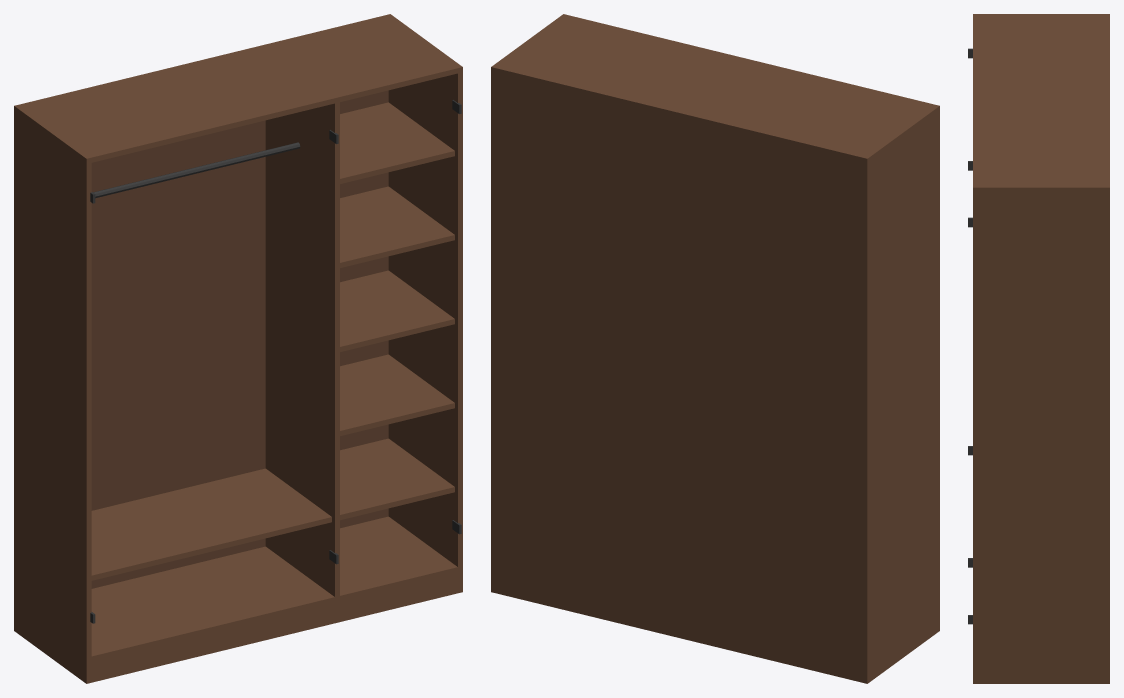
The model's file is Wardrobe2_C3.fbx.
3 views of the same model, side by side, from view 1: azimuth 30°, elevation 25°; view 2: azimuth 150°, elevation 25°; view 3: azimuth 270°, elevation 25° (orthographic). The views are drawn at different scales.
Parts seen in each view (by area): view 1: Wardrobe2_C3; view 2: Wardrobe2_C3; view 3: Wardrobe2_C3.
Boxes of the visible parts, box(x1,y1,x2,y2) form: Wardrobe2_C3: box(14, 14, 462, 683); Wardrobe2_C3: box(491, 14, 939, 683); Wardrobe2_C3: box(968, 14, 1109, 683).
Bounding box in the file's own units: 150 × 200 × 51.79.
